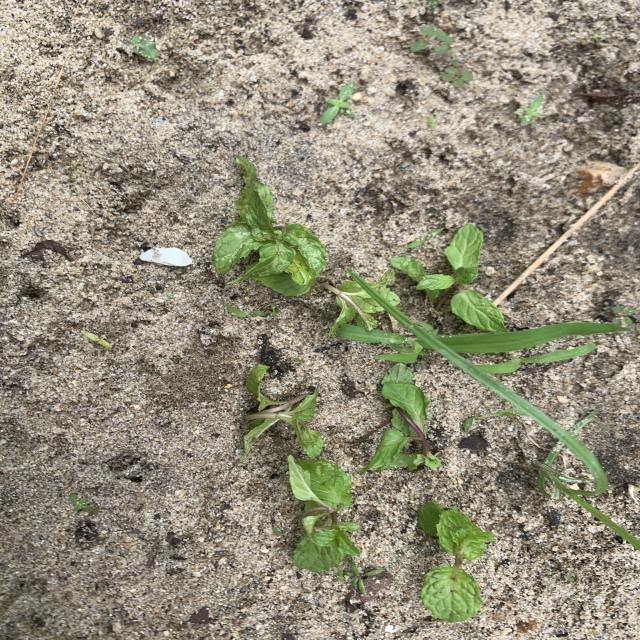crop: (213, 157, 326, 296), (390, 225, 505, 332), (417, 502, 494, 622), (287, 456, 359, 577), (361, 363, 440, 472), (242, 364, 323, 457), (323, 279, 382, 330), (368, 280, 400, 306)
weed: (348, 271, 640, 549), (437, 323, 616, 353), (475, 344, 595, 374), (338, 324, 422, 363), (321, 83, 355, 124), (410, 24, 452, 56), (462, 409, 517, 433), (343, 559, 374, 594), (514, 95, 543, 126), (441, 60, 473, 88), (407, 228, 444, 250), (226, 304, 280, 318), (68, 494, 100, 514), (81, 330, 112, 349), (611, 305, 636, 326), (426, 115, 439, 130), (272, 525, 282, 537)
